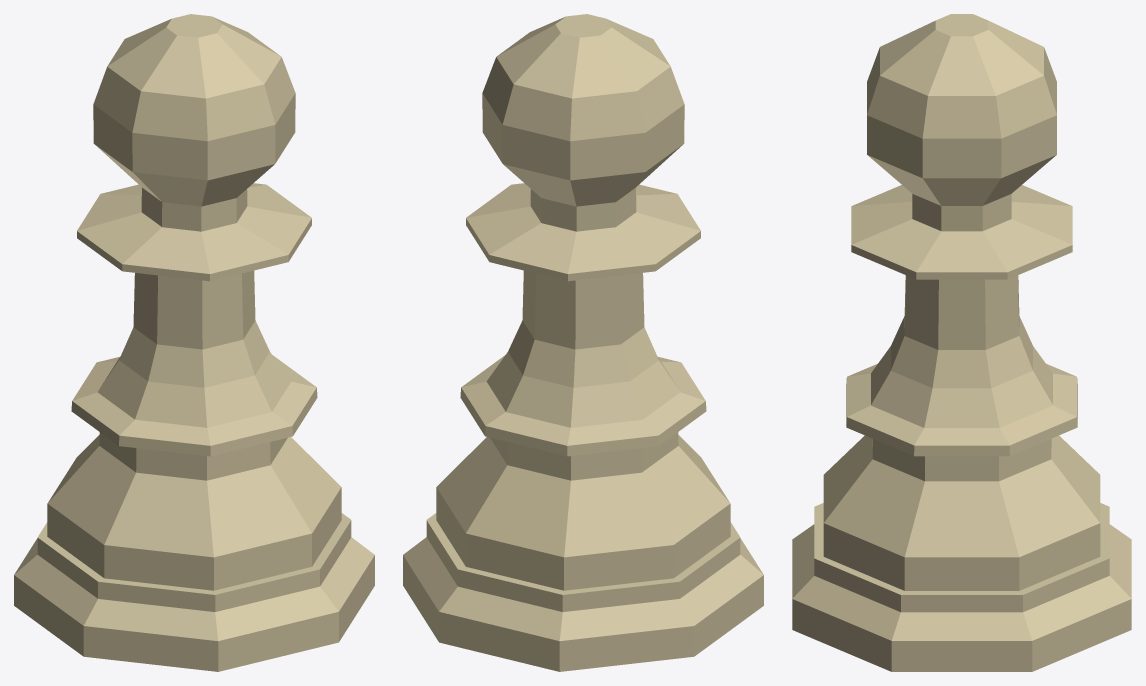
File: pawn.fbx
3 views of the same model, side by side, from view 1: azimuth 30°, elevation 25°; view 2: azimuth 150°, elevation 25°; view 3: azimuth 270°, elevation 25° (orthographic).
Visible parts, largest first — view 1: Cylinder_2; view 2: Cylinder_2; view 3: Cylinder_2.
Part boxes in pixels (<box>): Cylinder_2: <box>14,14,374,671</box>; Cylinder_2: <box>403,14,763,671</box>; Cylinder_2: <box>792,14,1131,671</box>.
Bounding box in the file's own units: 126 × 235 × 126.
